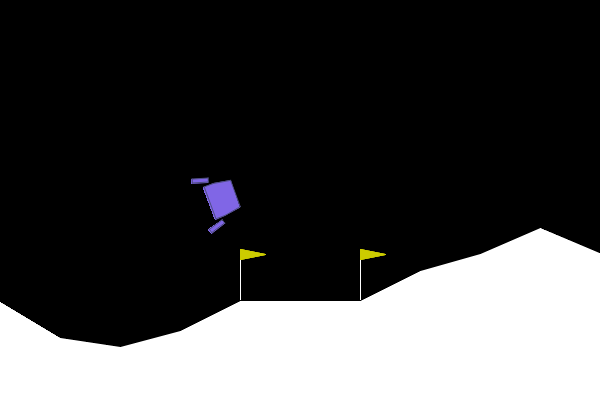lander: (189, 165, 247, 235)
